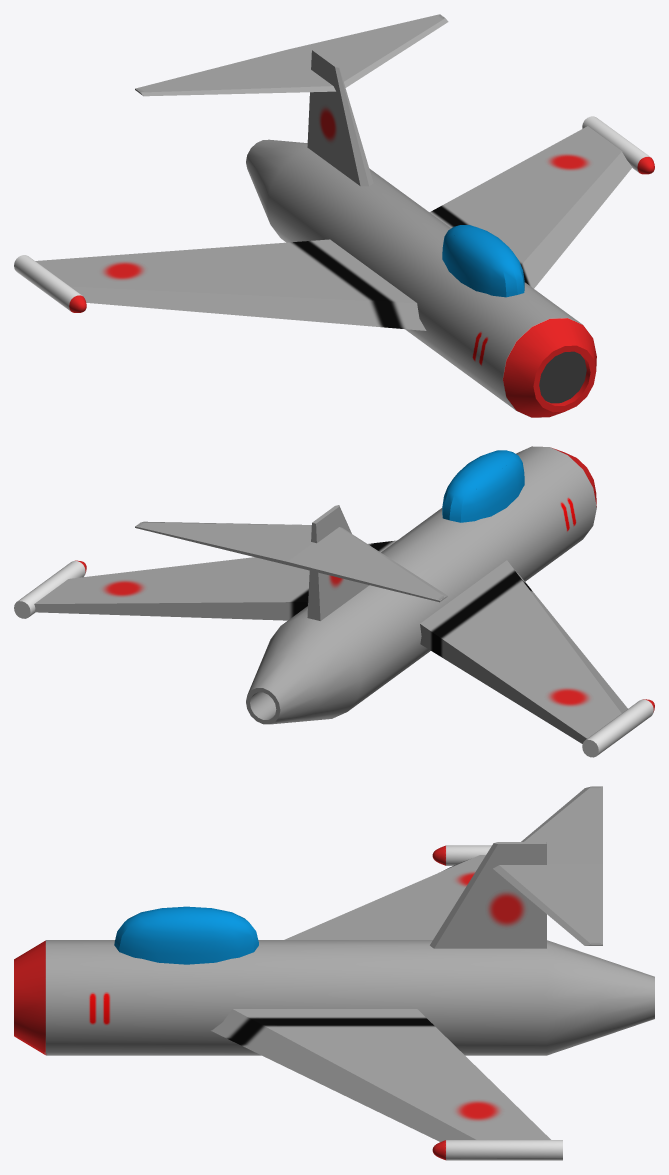
3 views of the same model, one above another, from view 1: azimuth 30°, elevation 25°; view 2: azimuth 150°, elevation 25°; view 3: azimuth 270°, elevation 25° (orthographic). The views are drawn at different scales.
Parts seen in each view (by area): view 1: MA1; view 2: MA1; view 3: MA1.
Boxes of the visible parts, left/top/right/bottom form: MA1: left=14, top=14, right=654, bottom=417; MA1: left=14, top=446, right=654, bottom=757; MA1: left=14, top=786, right=654, bottom=1160.
Bounding box in the file's own units: 1119 × 357 × 1000.
Materials: 1 (1 with a texture image).
